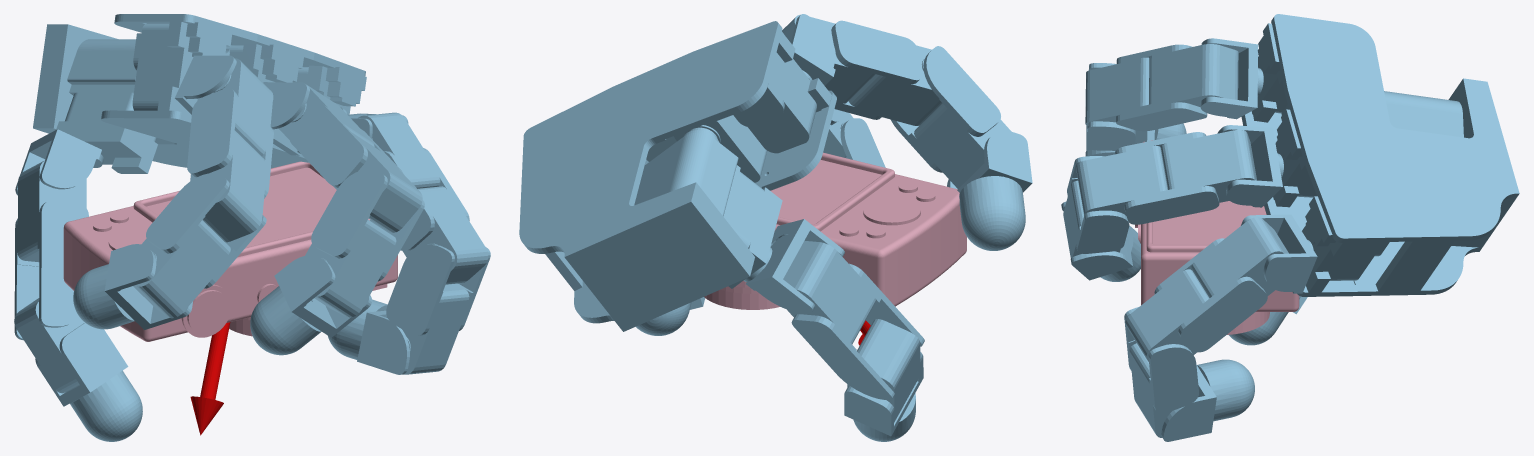
3 renders of one model, left to right at view 1: azimuth 30°, elevation 25°; view 2: azimuth 150°, elevation 25°; view 3: azimuth 270°, elevation 25°, orthographic. The views are drawn at different scales.
Visible parts, largest first — view 1: world, camera.stl; view 2: world, camera.stl; view 3: world, camera.stl.
Boxes of the visible parts, <box> form: world: <box>14,14,490,441</box>; camera.stl: <box>63,161,397,341</box>; world: <box>519,14,1032,441</box>; camera.stl: <box>704,152,966,309</box>; world: <box>1061,14,1519,441</box>; camera.stl: <box>1135,140,1299,334</box>.
Size of the model in its own units: 0.1819 by 0.1665 by 0.1873.
